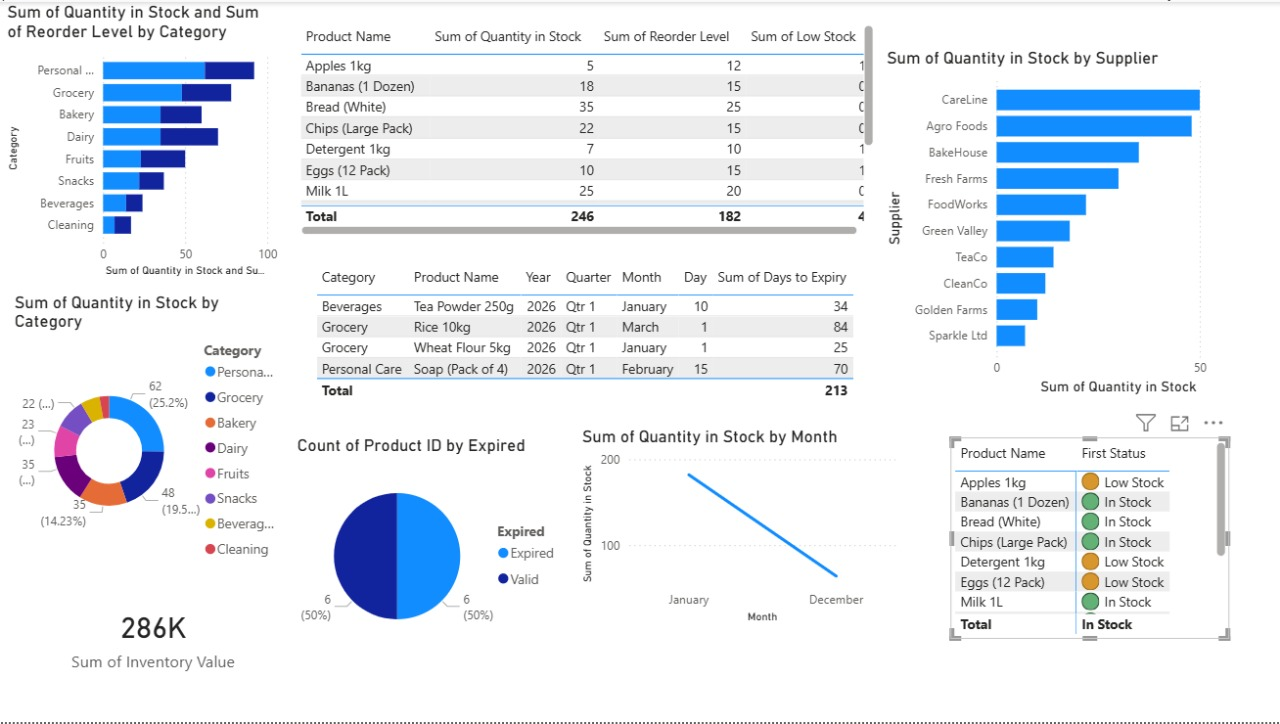

Layout of this report page (visuals, bound fields, positions):
{"tool":"powerbi","page":{"name":"Page 1","canvas":[1280,720],"ordinal":0},"visuals":[{"type":"barChart","fields":{"Category":["Inventory.Category"],"Y":["Sum(Inventory.Quantity in Stock)","Sum(Inventory.Reorder Level)"]},"box":[3,0,279.9,279.9],"z":0},{"type":"donutChart","fields":{"Category":["Inventory.Category"],"Y":["Sum(Inventory.Quantity in Stock)"]},"box":[10,290,280,280],"z":1},{"type":"tableEx","fields":{"Values":["Inventory.Product Name","Sum(Inventory.Quantity in Stock)","Sum(Inventory.Reorder Level)","Sum(Inventory.Low Stock)"]},"box":[295,18.4,583.2,219.6],"z":2},{"type":"card","fields":{"Values":["Sum(Inventory.Inventory Value)"]},"box":[30.5,561.5,245.6,146.8],"z":3},{"type":"tableEx","fields":{"Values":["Inventory.Category","Inventory.Product Name","Inventory.Expiry Date.Variation.Date Hierarchy.Year","Inventory.Expiry Date.Variation.Date Hierarchy.Quarter","Inventory.Expiry Date.Variation.Date Hierarchy.Month","Inventory.Expiry Date.Variation.Date Hierarchy.Day","Sum(Inventory.Days to Expiry)"]},"box":[310.9,259.6,551.6,167.4],"z":4},{"type":"clusteredBarChart","fields":{"Category":["Inventory.Supplier"],"Y":["Sum(Inventory.Quantity in Stock)"]},"box":[881.5,45.8,370.5,352.7],"z":5},{"type":"pieChart","fields":{"Category":["Inventory.Expired"],"Y":["CountNonNull(Inventory.Product ID)"]},"box":[292.8,432.8,275.8,223.7],"z":6},{"type":"lineChart","fields":{"Y":["Sum(Inventory.Quantity in Stock)"],"Category":["Inventory.Last Restocked.Variation.Date Hierarchy.Month"]},"box":[577.4,424.8,323.8,201.7],"z":7},{"type":"pivotTable","fields":{"Rows":["Inventory.Product Name"],"Values":["Min(Inventory.Status)"]},"box":[949.6,435.8,279.9,201.7],"z":8}]}

Visuals, with their boxes in screenshot pixels (x1, y1, x2, y2), scaled from the page's 1280x720 canvas onto the 1280x724 screenshot:
barChart - Inventory.Category x Sum(Inventory.Quantity in Stock): [3,0,283,281]
donutChart - Inventory.Category x Sum(Inventory.Quantity in Stock): [10,292,290,573]
tableEx - Inventory.Product Name x Sum(Inventory.Quantity in Stock): [295,19,878,239]
card - Sum(Inventory.Inventory Value): [30,565,276,712]
tableEx - Inventory.Category x Inventory.Product Name: [311,261,862,429]
clusteredBarChart - Inventory.Supplier x Sum(Inventory.Quantity in Stock): [882,46,1252,401]
pieChart - Inventory.Expired x CountNonNull(Inventory.Product ID): [293,435,569,660]
lineChart - Sum(Inventory.Quantity in Stock) x Inventory.Last Restocked.Variation.Date Hierarchy.Month: [577,427,901,630]
pivotTable - Inventory.Product Name x Min(Inventory.Status): [950,438,1230,641]
